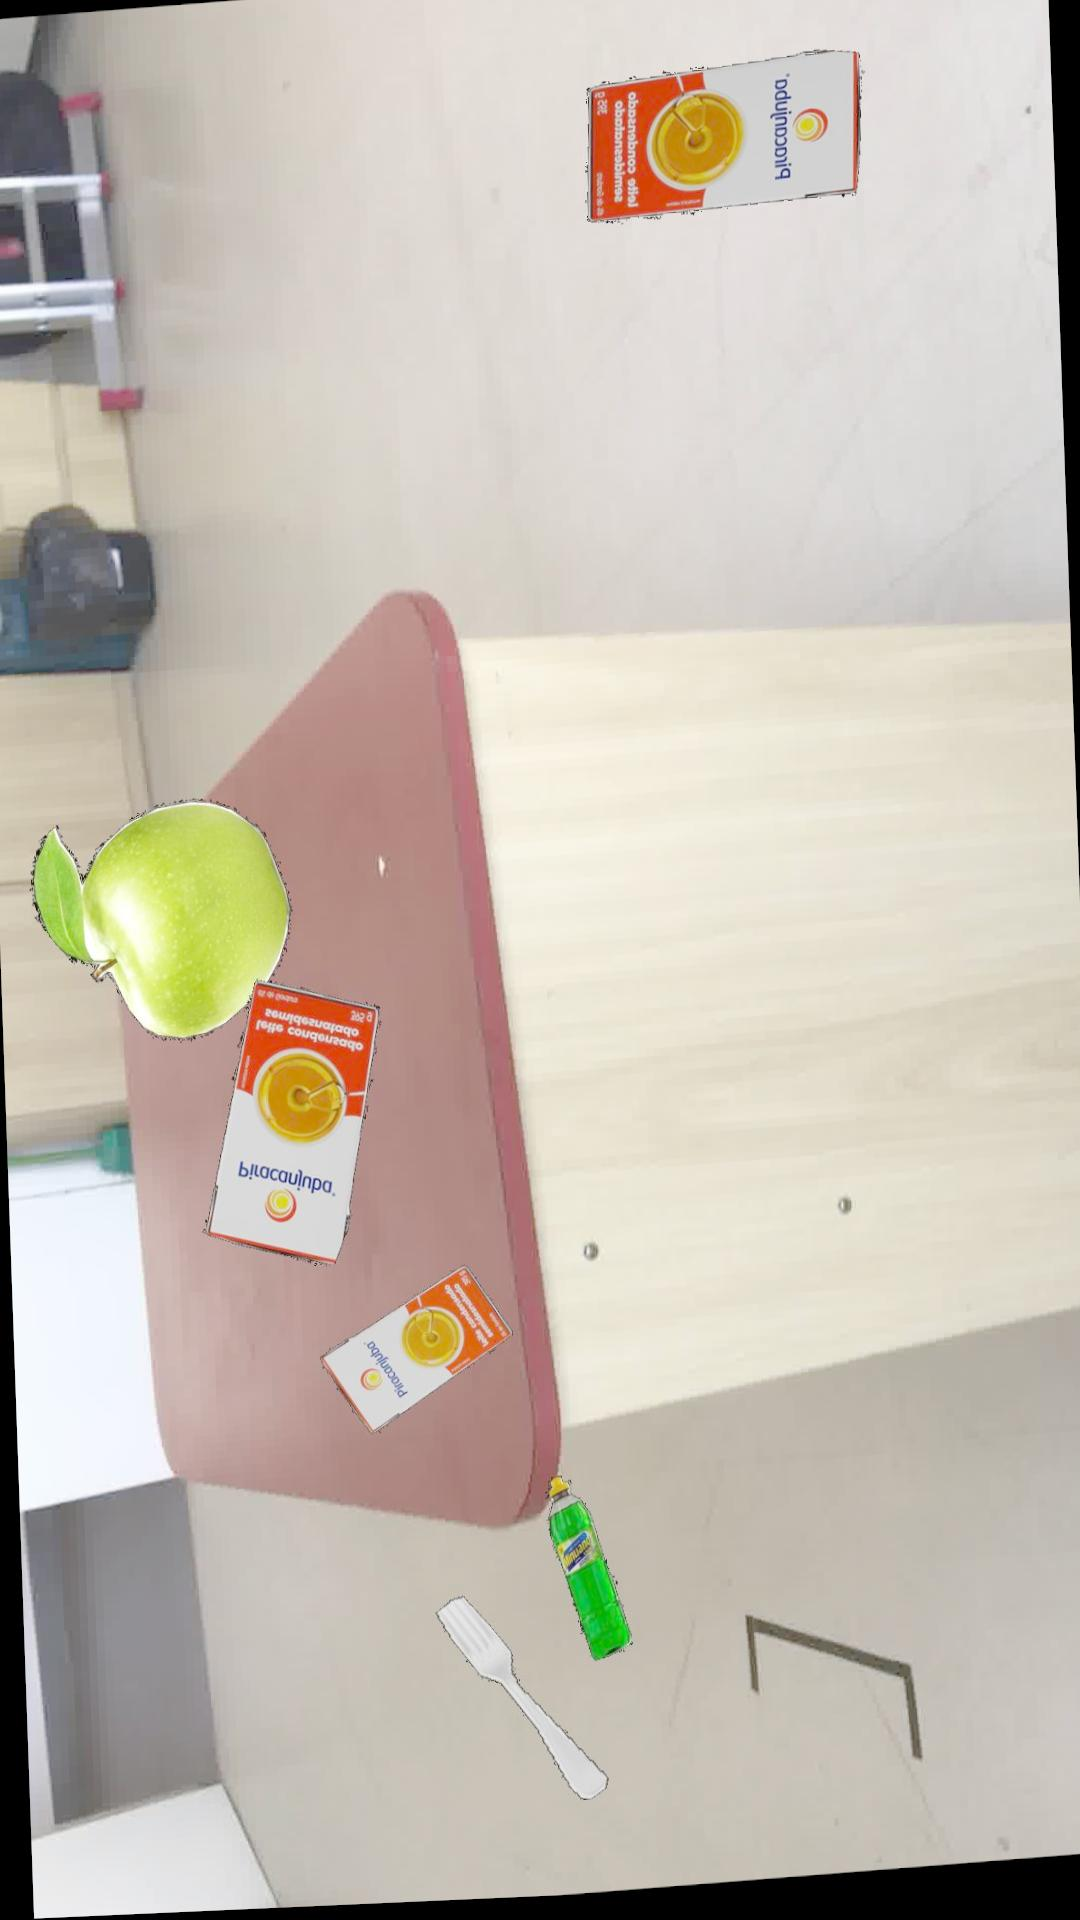cleaner: (547, 1478, 633, 1664)
fork: (435, 1597, 609, 1803)
green apple: (32, 799, 293, 1040)
